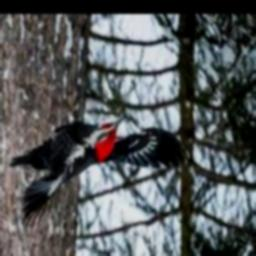Woodpecker: (11, 115, 190, 229)
